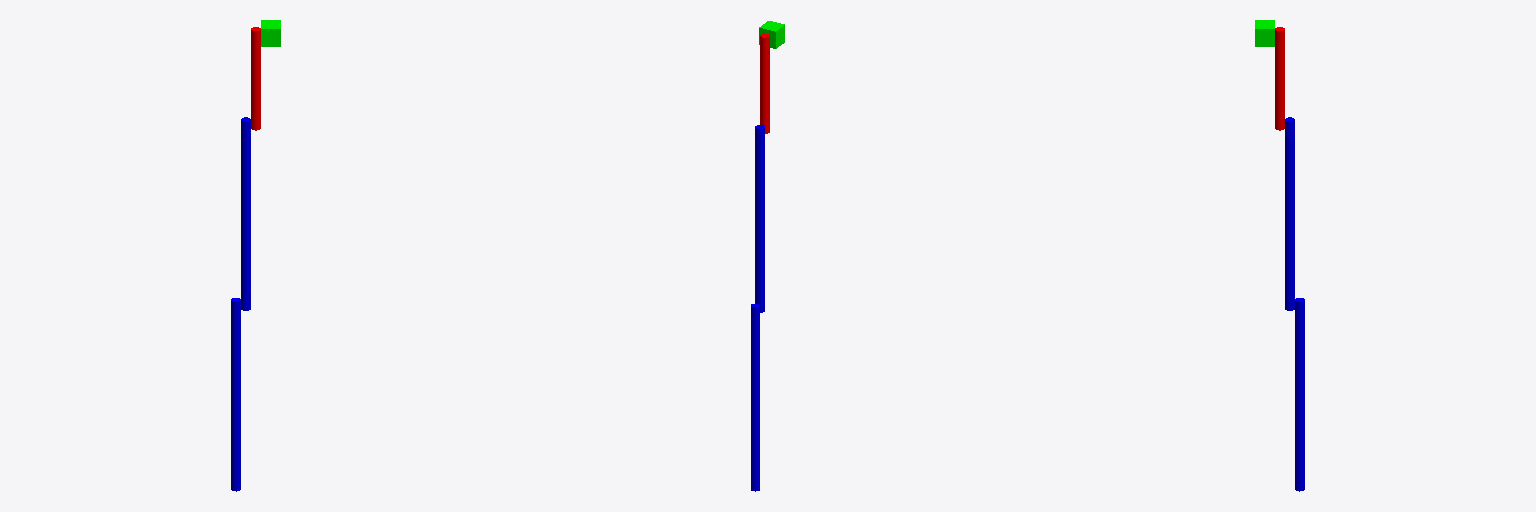
robot.urdf — TriplePendulum:
<?xml version="1.0"?>

<robot name="TriplePendulum">
  <link name="base_link">
    <visual>
      <geometry>
         <box size=".2 .2 .2" />
      </geometry>
      <material name="green">
	       <color rgba="0 1 0 1" />
      </material>
    </visual>
  </link>

  <link name="upper_link">
    <inertial>
      <origin xyz="0 0 -.5" rpy="0 0 0" />
      <mass value="1" />
      <inertia ixx="1" ixy="0" ixz="0" iyy="0.083" iyz="0" izz="1" />
    </inertial>
    <visual>
      <origin xyz="0 0 -.5" rpy="0 0 0" />
      <geometry>
         <cylinder length="1.1" radius=".05" />
      </geometry>
      <material name="red">
	       <color rgba="1 0 0 1" />
      </material>
    </visual>
  </link>

  <link name="middle_link">
    <inertial>
      <origin xyz="0 0 -1" rpy="0 0 0" />
      <mass value="1" />
      <inertia ixx="1" ixy="0" ixz="0" iyy="0.33" iyz="0" izz="1" />
    </inertial>
    <visual>
      <origin xyz="0 0 -1" rpy="0 0 0" />
      <geometry>
         <cylinder length="2.1" radius=".05" />
      </geometry>
      <material name="blue">
	       <color rgba="0 0 1 1" />
      </material>
    </visual>
  </link>

  <link name="lower_link">
    <inertial>
      <origin xyz="0 0 -1" rpy="0 0 0" />
      <mass value="1" />
      <inertia ixx="1" ixy="0" ixz="0" iyy="0.33" iyz="0" izz="1" />
    </inertial>
    <visual>
      <origin xyz="0 0 -1" rpy="0 0 0" />
      <geometry>
         <cylinder length="2.1" radius=".05" />
      </geometry>
      <material name="blue">
	       <color rgba="0 0 1 1" />
      </material>
    </visual>
  </link>

  <joint name="shoulder" type="continuous">
    <parent link="base_link" />
    <child link="upper_link" />
    <origin xyz="0 .15 0" />
    <axis xyz="0 1 0" />
    <dynamics damping="0.1" />
  </joint>

  <joint name="elbow" type="continuous">
    <parent link="upper_link" />
    <child link="middle_link" />
    <origin xyz="0 .1 -1" />
    <axis xyz="0 1 0" />
    <dynamics damping="0.1" />
  </joint>

  <joint name="wrist" type="continuous">
    <parent link="middle_link" />
    <child link="lower_link" />
    <origin xyz="0 .1 -2" />
    <axis xyz="0 1 0" />
    <dynamics damping="0.1" />
  </joint>
</robot>

--- What the picture shows (computed from the rendered views, not written in the file) ---
The picture shows the robot from 3 angles, left to right: view 1: azimuth 90°, elevation 25°; view 2: azimuth 150°, elevation 25°; view 3: azimuth 270°, elevation 25°; orthographic projection.
Model TriplePendulum with 4 links and 3 joints (3 continuous), rooted at base_link, posed every joint at zero.
Links seen in each view (by area): view 1: middle_link, lower_link, upper_link, base_link; view 2: middle_link, lower_link, upper_link; view 3: middle_link, lower_link, upper_link, base_link.
Boxes of the visible links, x1,y1,x2,y2 form: middle_link: (241,117,250,310); lower_link: (231,298,240,491); upper_link: (251,27,260,130); base_link: (261,20,280,46); middle_link: (755,125,764,312); lower_link: (751,304,759,491); upper_link: (760,34,769,133); middle_link: (1285,117,1294,310); lower_link: (1295,298,1304,491); upper_link: (1275,27,1284,130); base_link: (1255,20,1274,46).
Bounding box of the posed robot: 0.2 × 0.5 × 5.15 m (x, y, z).
Geometry: primitives only (box / cylinder / sphere), no mesh files.
